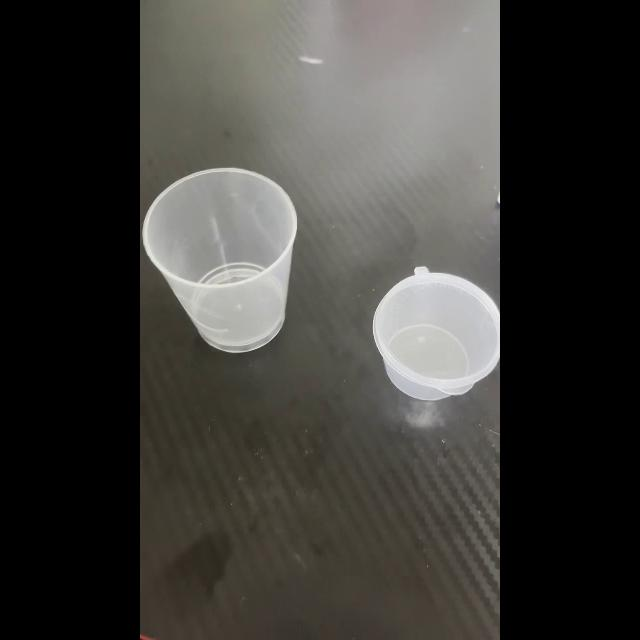clean: (142, 169, 298, 349), (371, 269, 499, 399)
